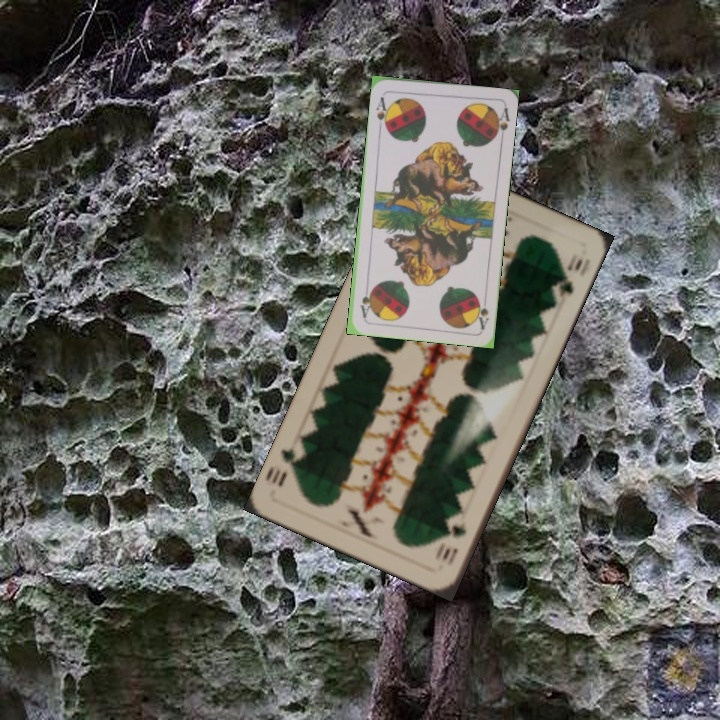G10: (438, 519, 469, 569)
SA: (372, 93, 392, 132), (472, 291, 491, 331)
